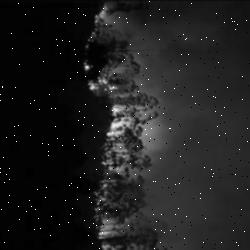fire: (82, 5, 140, 250)
